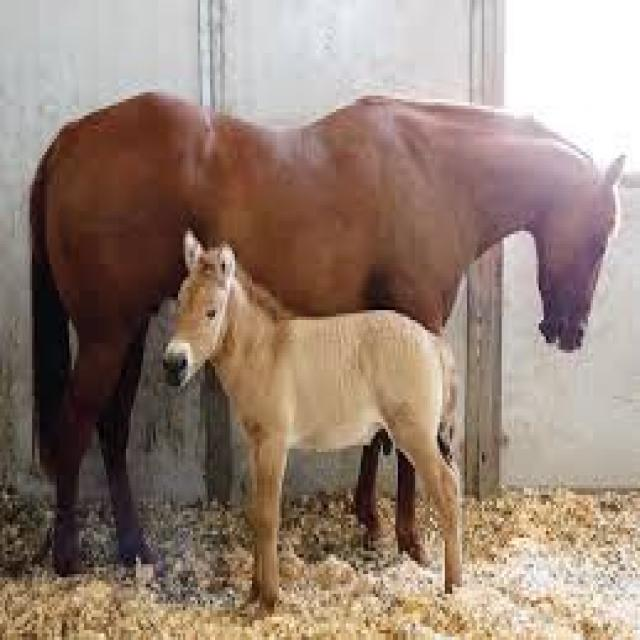Horse: (153, 234, 476, 602), (499, 104, 624, 362)
